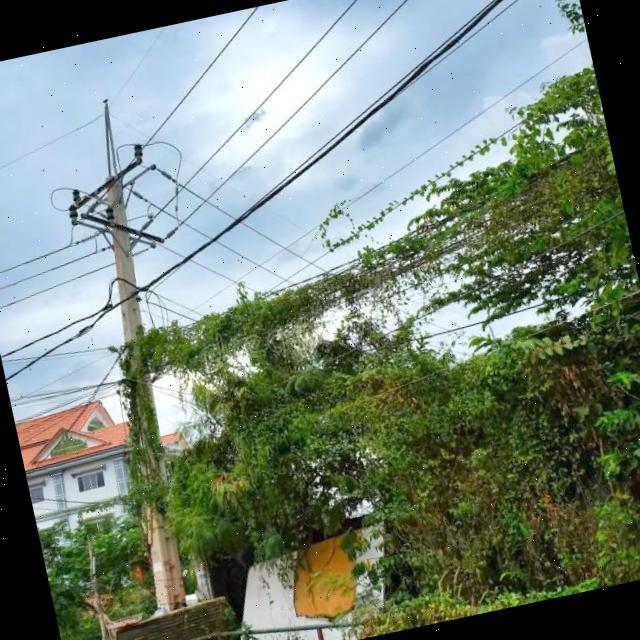critical vegetation: (78, 143, 581, 518)
